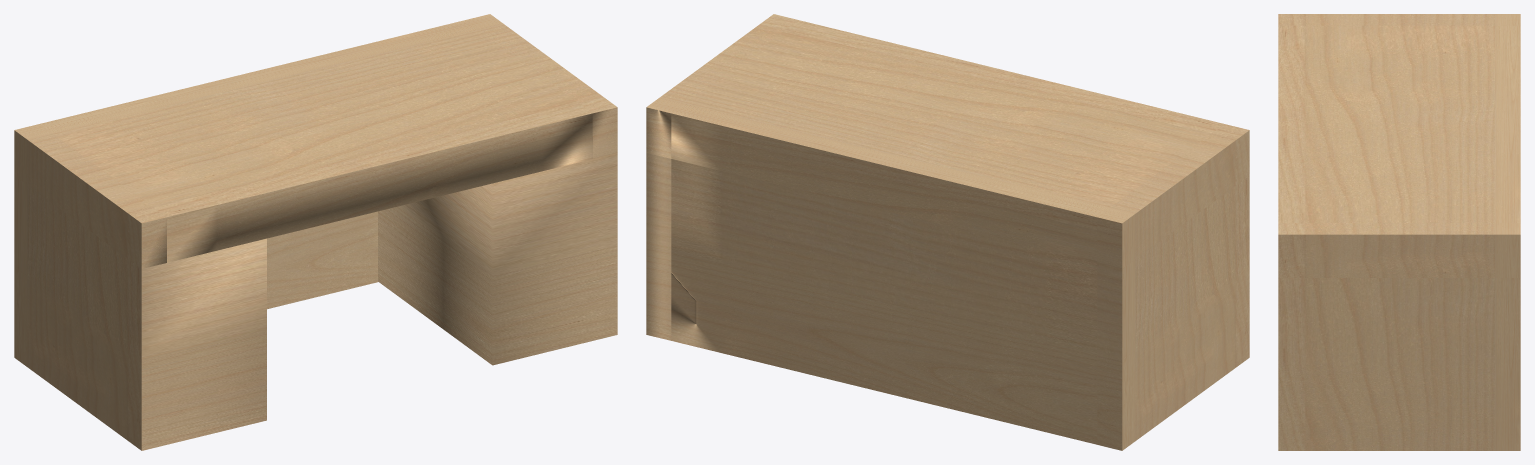
The model's file is desk textured.FBX.
3 views of the same model, side by side, from view 1: azimuth 30°, elevation 25°; view 2: azimuth 150°, elevation 25°; view 3: azimuth 270°, elevation 25° (orthographic). The views are drawn at different scales.
Visible parts, largest first — view 1: Box001; view 2: Box001; view 3: Box001.
Part boxes in pixels (x1,y1,x2,y2): Box001: [14, 14, 617, 450]; Box001: [646, 14, 1249, 450]; Box001: [1278, 14, 1520, 450].
Size of the model in its own units: 315 by 144 by 146.
1 material, 1 textured.
